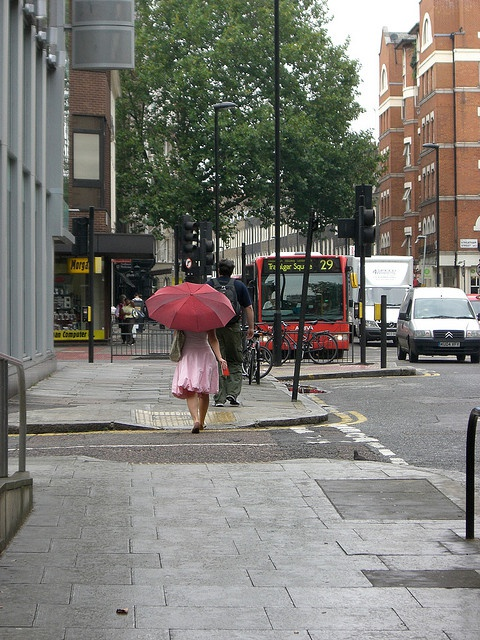non-vehicle: (264, 318, 339, 364), (240, 338, 256, 384)
